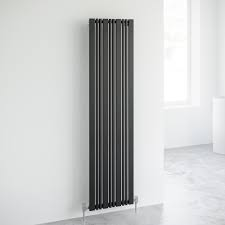Radiator: (81, 16, 139, 212)
